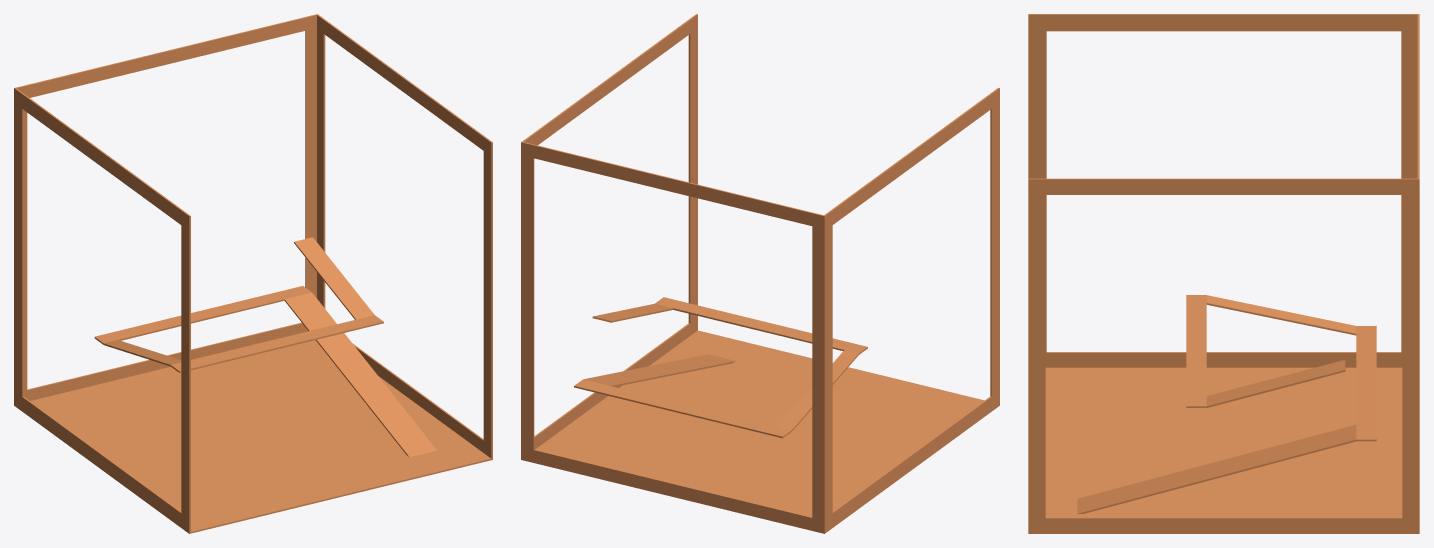
File: frame.fbx
3 views of the same model, side by side, from view 1: azimuth 30°, elevation 25°; view 2: azimuth 150°, elevation 25°; view 3: azimuth 270°, elevation 25° (orthographic). The views are drawn at different scales.
Parts seen in each view (by area): view 1: Cube; view 2: Cube; view 3: Cube.
Boxes of the visible parts, box(x1,y1,x2,y2) form: Cube: box(14, 14, 492, 533); Cube: box(521, 14, 999, 533); Cube: box(1028, 14, 1419, 533).
Bounding box in the file's own units: 100000 × 101897 × 100000.
